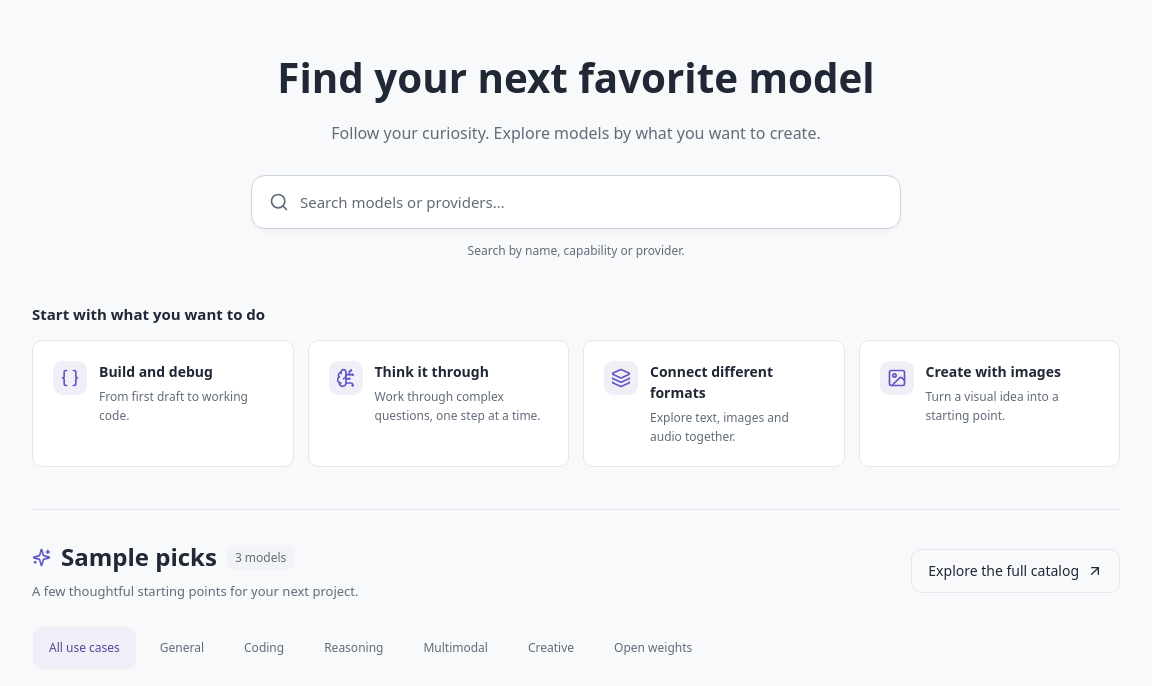
Test case: Discovery page › choosing a task filters results and browser back restores picks
Later steps or results of the test are not shown.
Expected: the heading "Find your next favorite model" is shown, [277, 50, 875, 105]
Click the button "Build and debug From first draft to working code." at (163, 404), box [32, 340, 294, 467]
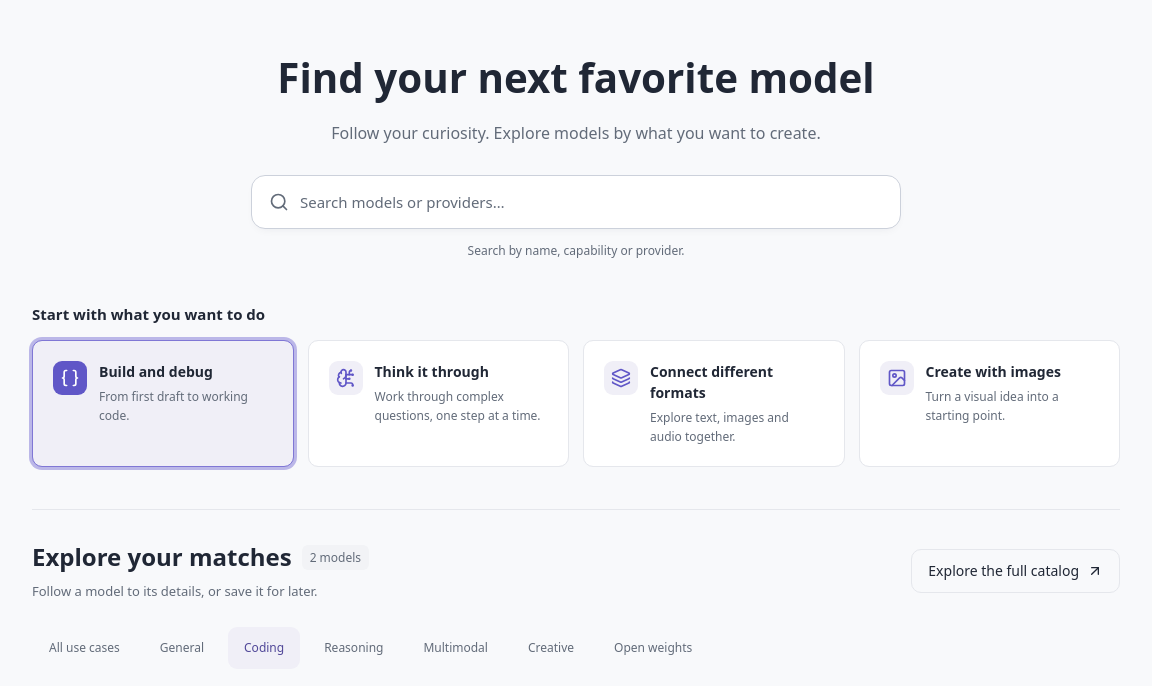
Now the button "Coding" is pressed, box [227, 626, 301, 670]
